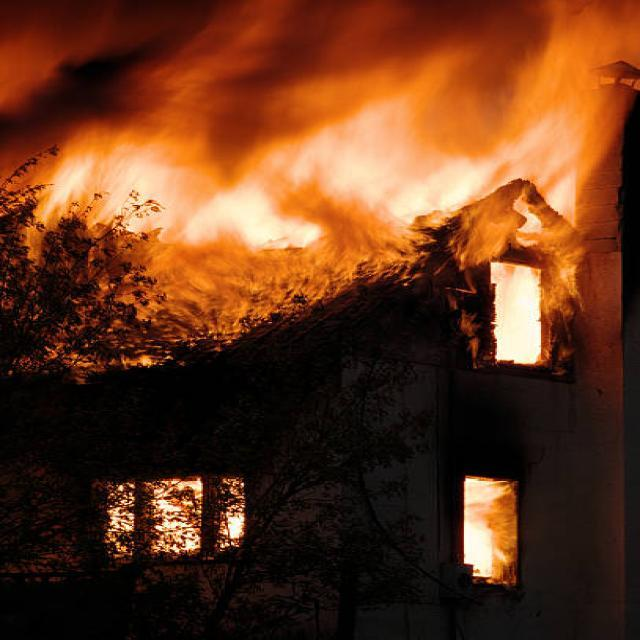Fire: (0, 56, 599, 372)
